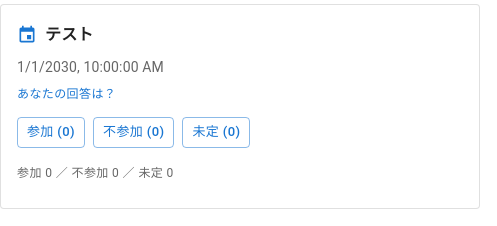
Scenario: EventCard - 会話イベント投稿 (#108) › RSVP 操作 › RSVP 更新成功後にローカル集計とボタン選択状態が反映される
Click the button with aria-label "rsvp-going" at (51, 132), box [17, 117, 85, 148]
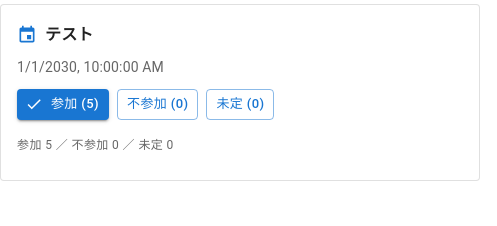
Now the button with test id "event-summary" shows "参加 5", box [17, 138, 174, 152]
